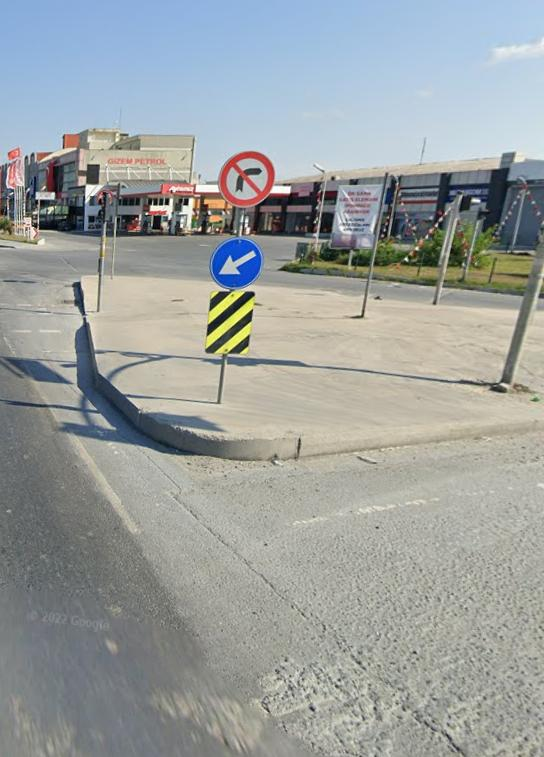rightturnsareforbidden: (221, 150, 275, 208)
